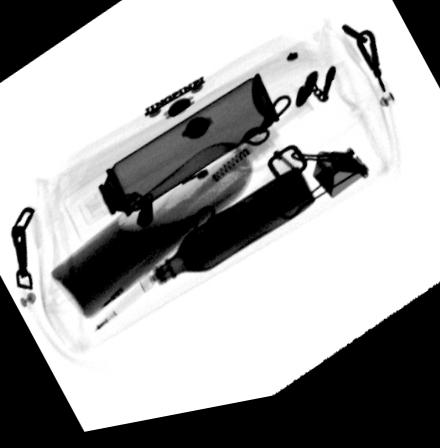Sprayer: (61, 80, 281, 248)
